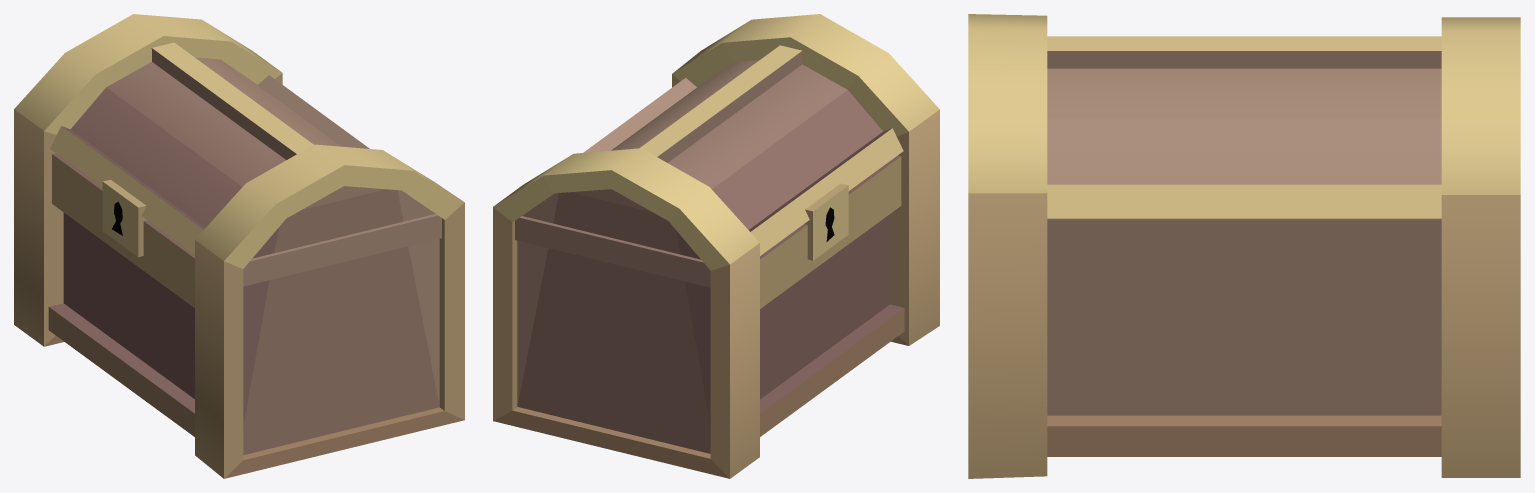
3 views of the same model, side by side, from view 1: azimuth 30°, elevation 25°; view 2: azimuth 150°, elevation 25°; view 3: azimuth 270°, elevation 25° (orthographic). The views are drawn at different scales.
Visible parts, largest first — view 1: Line042.001; view 2: Line042.001; view 3: Line042.001.
Part boxes in pixels (x1=…): Line042.001: x1=14, y1=14, x2=464, y2=478; Line042.001: x1=493, y1=14, x2=939, y2=478; Line042.001: x1=968, y1=14, x2=1520, y2=478.
Size of the model in its own units: 0.5453 by 0.6157 by 0.8254.
